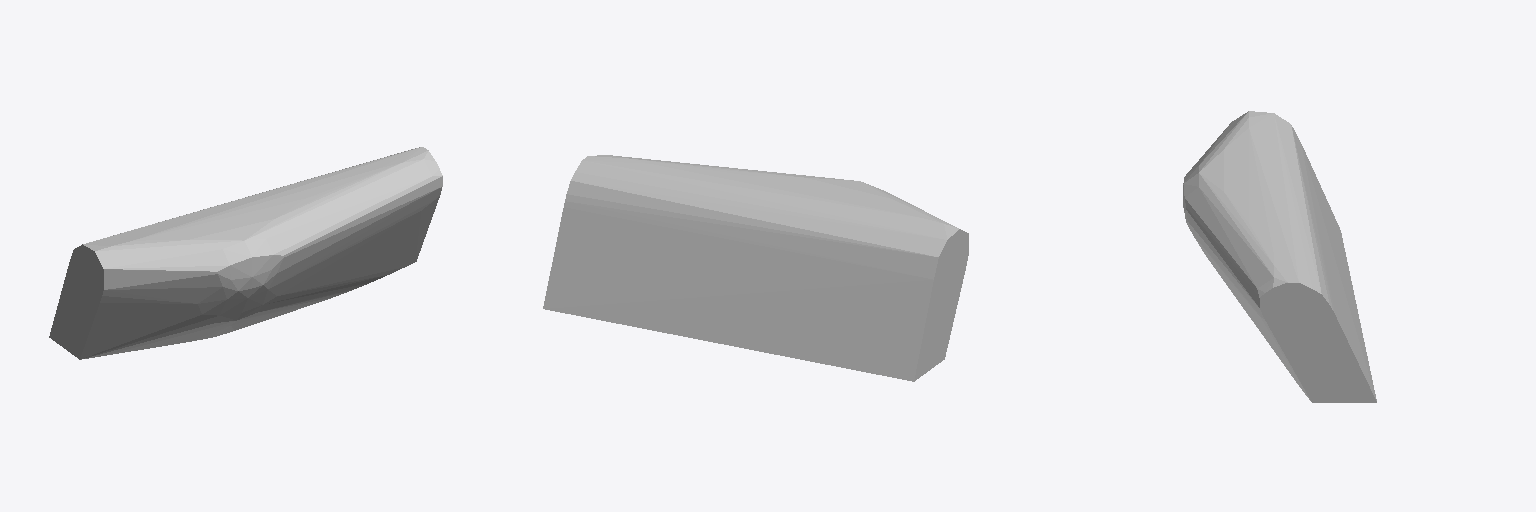
File: skillet_collision_8.obj
The picture shows the model from 3 angles: view 1: azimuth 30°, elevation 25°; view 2: azimuth 150°, elevation 25°; view 3: azimuth 270°, elevation 25°; orthographic projection.
Bounding box in the file's own units: 0.0526 × 0.0172 × 0.0251.